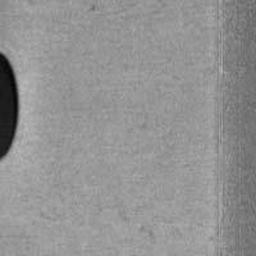Punching: (0, 52, 20, 160)
